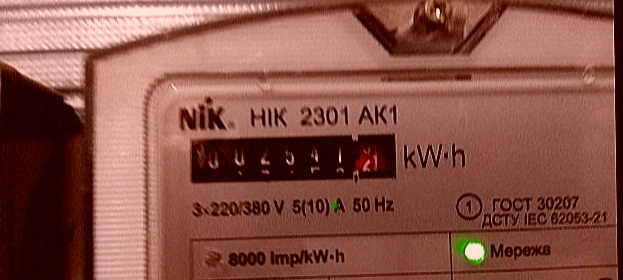0: (203, 144, 221, 170), (231, 141, 245, 168)
1: (331, 137, 344, 165)
2: (255, 140, 271, 166)
4: (307, 139, 320, 162)
5: (280, 139, 298, 167)
6: (358, 154, 373, 172)
screen: (177, 119, 411, 194)
